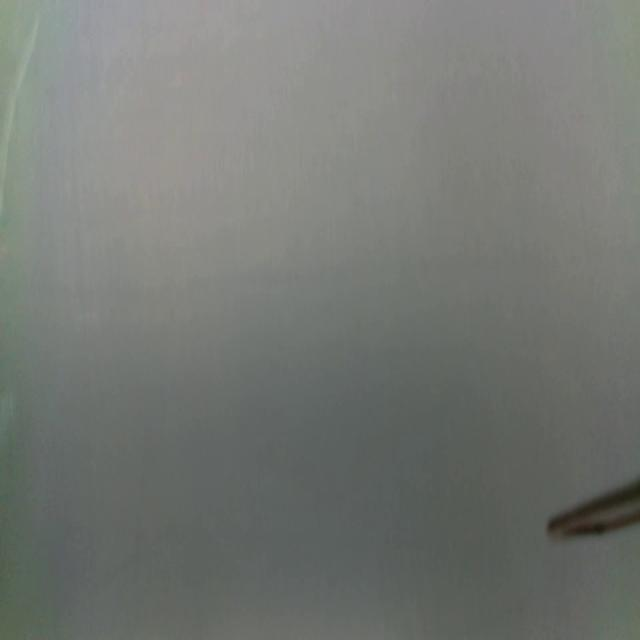crease: (0, 16, 42, 208)
